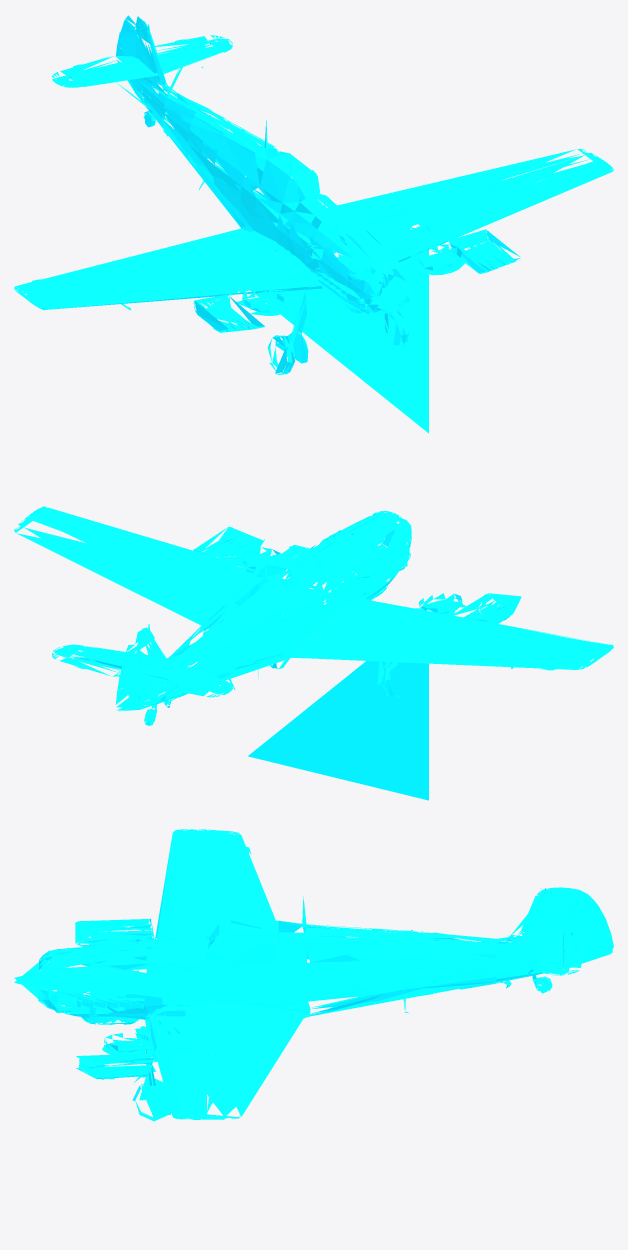
Rendered from PGAF502.glb.
3 renders of one model, top to bottom at view 1: azimuth 30°, elevation 25°; view 2: azimuth 150°, elevation 25°; view 3: azimuth 270°, elevation 25°, orthographic. The views are drawn at different scales.
Visible parts, largest first — view 1: misc; view 2: misc; view 3: misc.
Part boxes in pixels (bbox=[...]): misc: bbox=[14, 15, 613, 433]; misc: bbox=[14, 506, 613, 800]; misc: bbox=[14, 829, 613, 1121].
Size of the model in its own units: 0.6591 by 0.3208 by 0.5766.
